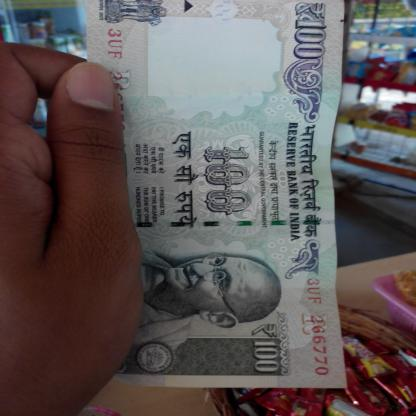Old100Front: (86, 0, 346, 391)
